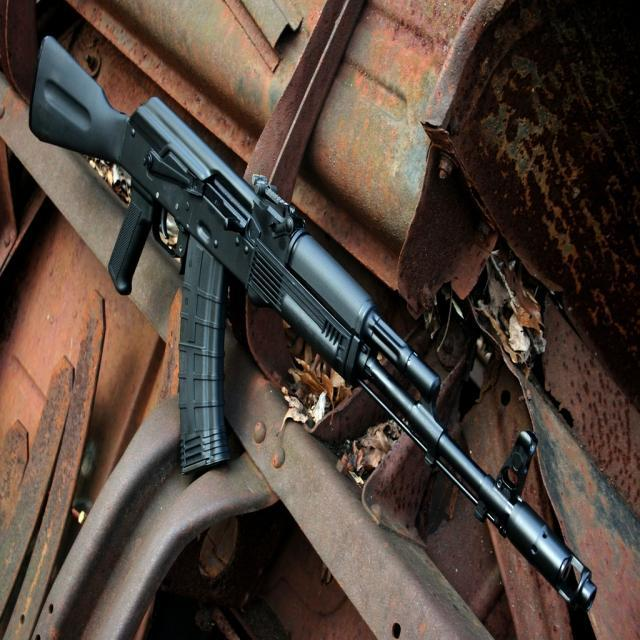weapon: (28, 35, 599, 615)
